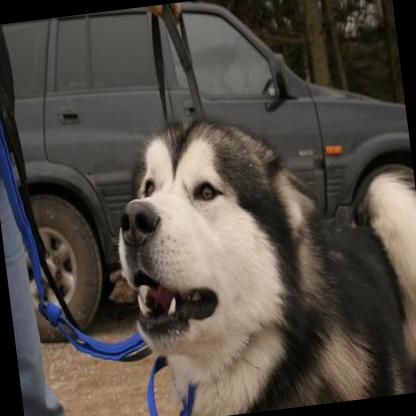malamute: (96, 85, 416, 416)
